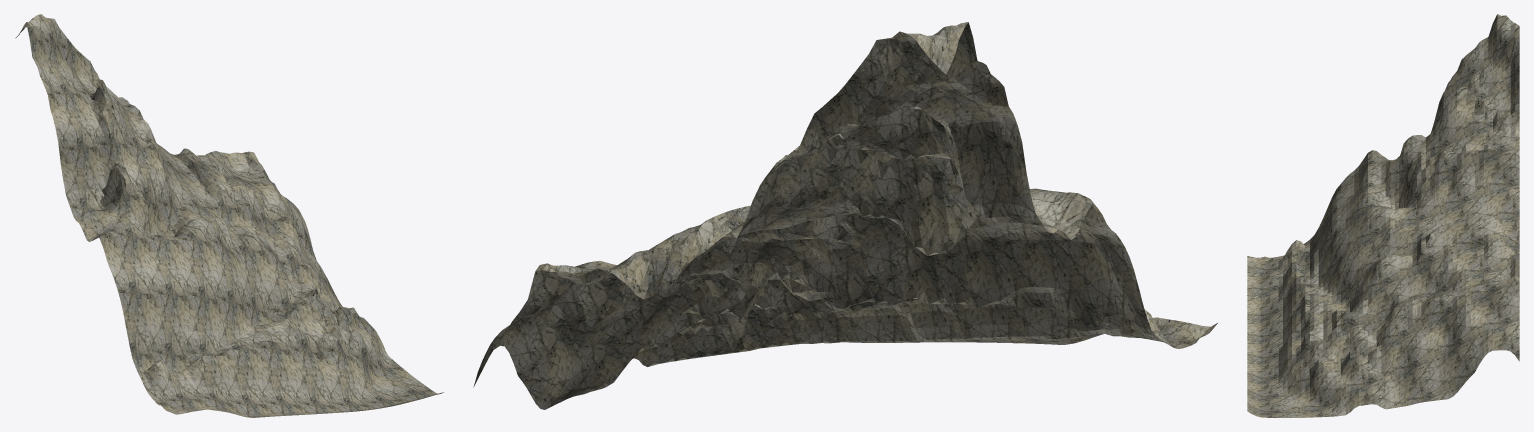
The model's file is terrain.glb.
3 renders of one model, left to right at view 1: azimuth 30°, elevation 25°; view 2: azimuth 150°, elevation 25°; view 3: azimuth 270°, elevation 25°, orthographic. The views are drawn at different scales.
Visible parts, largest first — view 1: Plane; view 2: Plane; view 3: Plane.
Part boxes in pixels (bbox=[...]): Plane: bbox=[15, 14, 443, 417]; Plane: bbox=[473, 22, 1217, 409]; Plane: bbox=[1247, 14, 1519, 417].
Size of the model in its own units: 148 by 173 by 148.
Materials: 1 (1 with a texture image).
